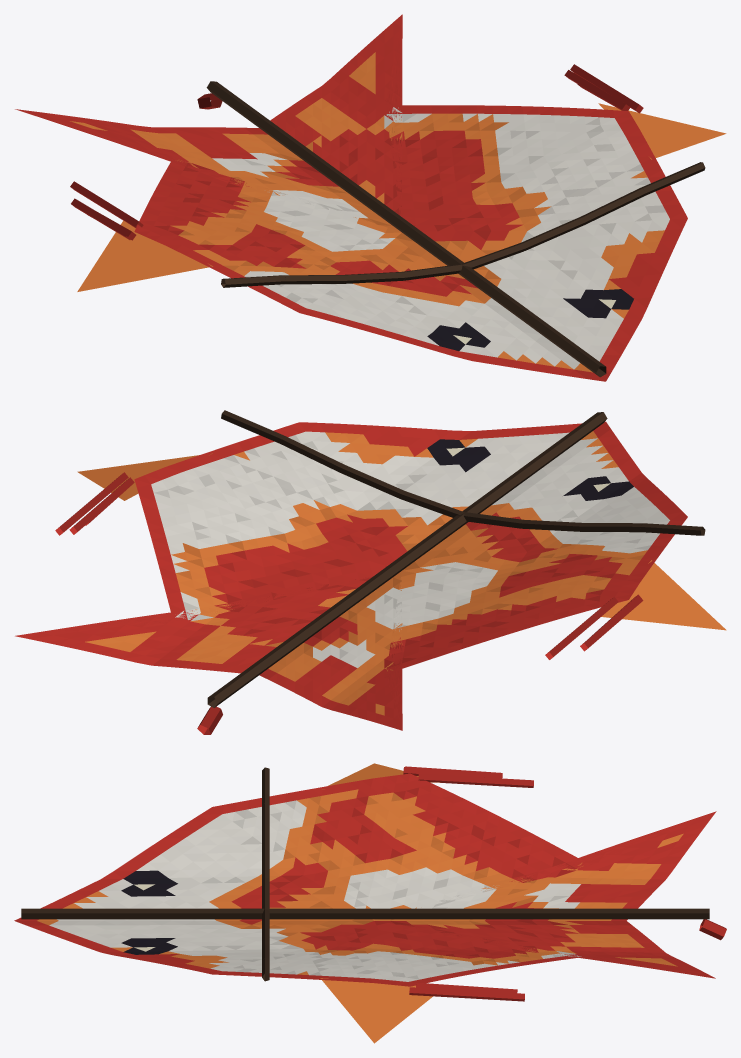
The model's file is kite_koi.glb.
3 renders of one model, top to bottom at view 1: azimuth 30°, elevation 25°; view 2: azimuth 150°, elevation 25°; view 3: azimuth 270°, elevation 25°, orthographic. The views are drawn at different scales.
Visible parts, largest first — view 1: kite_koi; view 2: kite_koi; view 3: kite_koi.
Part boxes in pixels (box(x1,y1,x2,y2)): kite_koi: box(15, 14, 726, 381); kite_koi: box(15, 410, 726, 734); kite_koi: box(14, 763, 726, 1043).
Bounding box in the file's own units: 1.84 × 0.2112 × 1.98.
